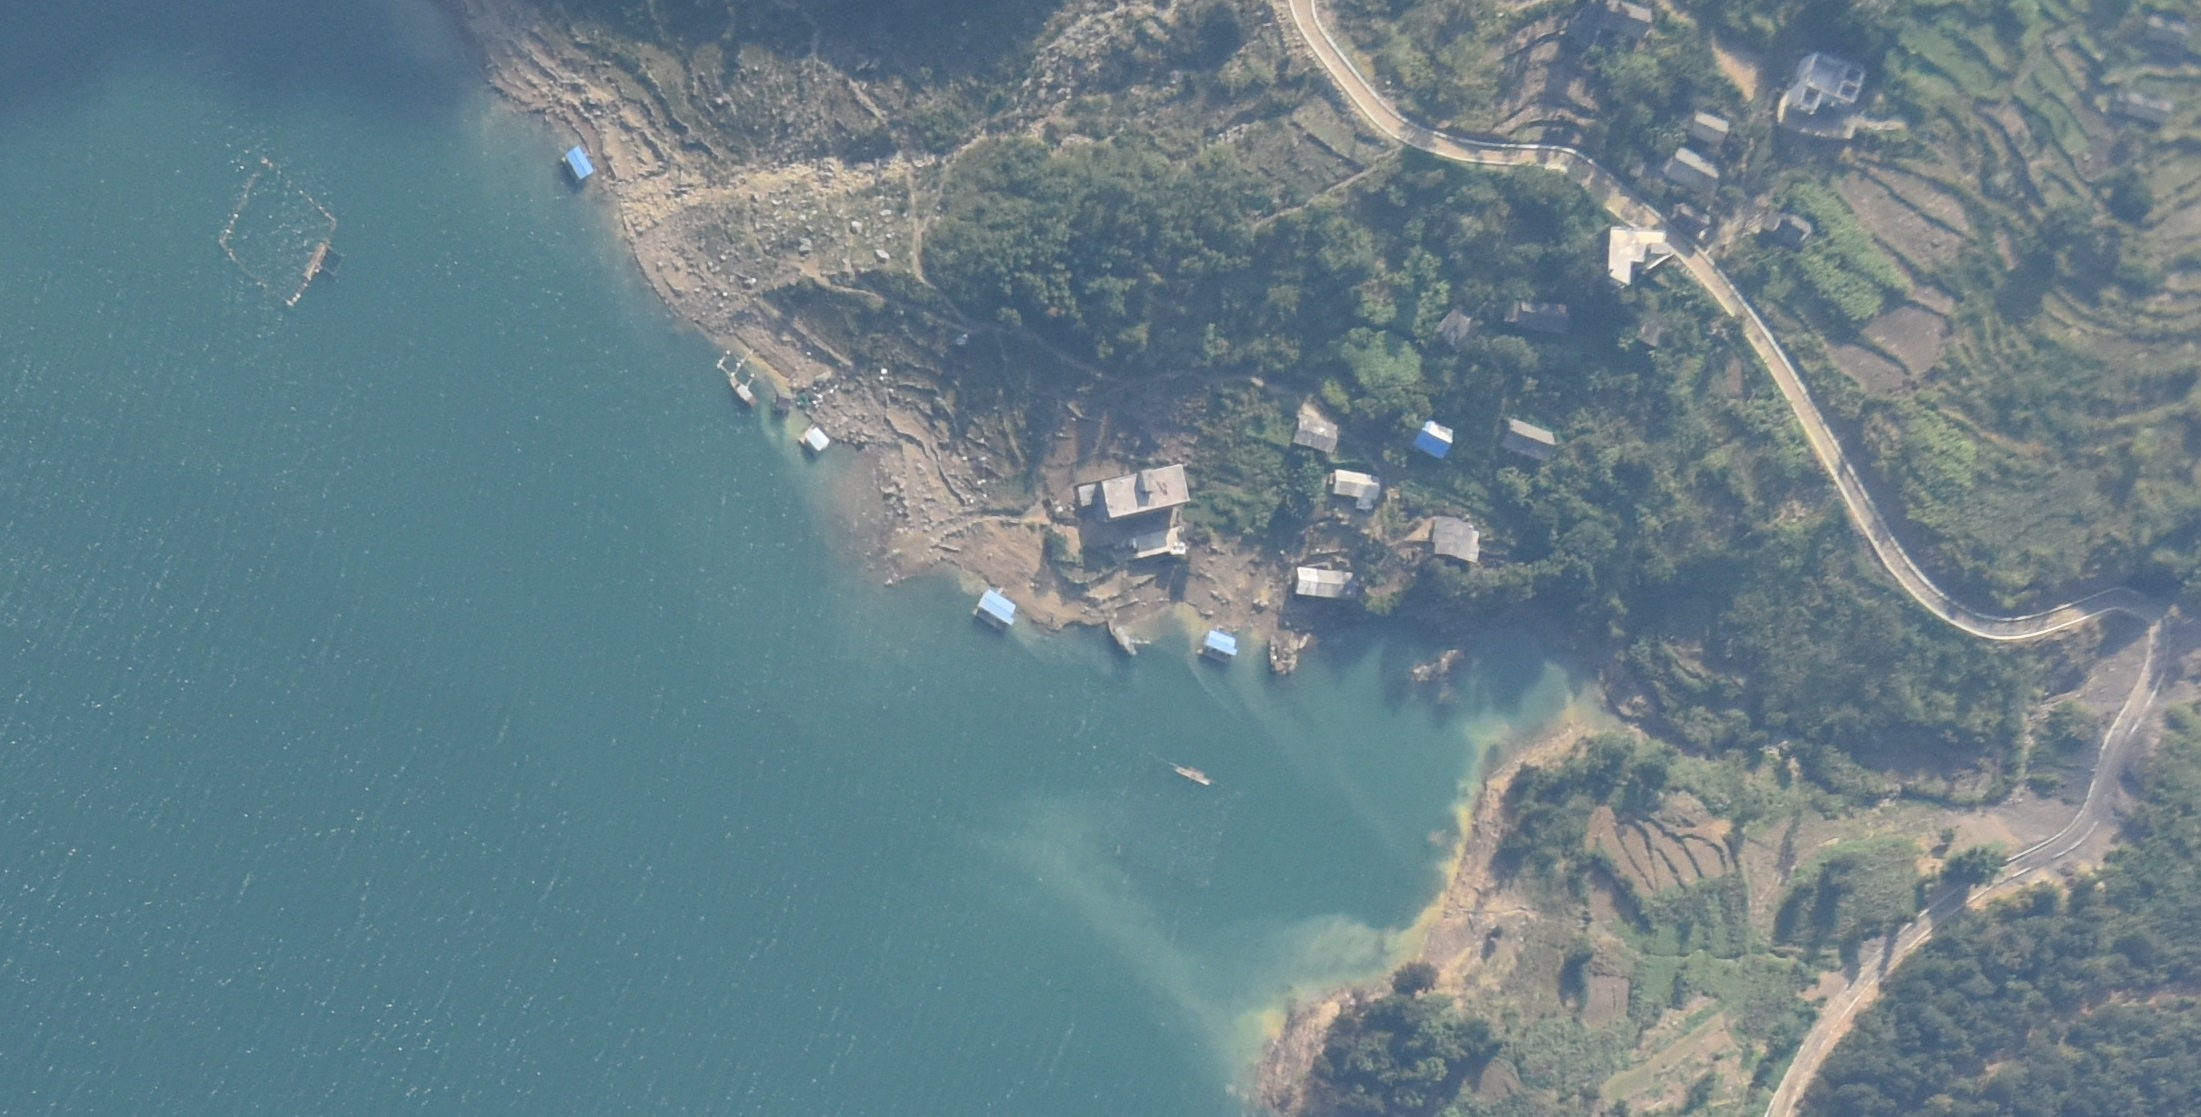building: (1076, 462, 1192, 561), (1782, 50, 1866, 135), (1608, 227, 1670, 289), (1499, 417, 1554, 460), (1429, 514, 1482, 558), (1294, 566, 1358, 601), (1670, 145, 1722, 187), (1329, 472, 1383, 511), (1506, 299, 1568, 333), (1288, 412, 1341, 450), (1603, 1, 1653, 38), (1764, 209, 1812, 244), (1435, 311, 1473, 348), (1690, 110, 1729, 144), (1670, 202, 1710, 231)
cultivation-mesh-cage: (217, 155, 340, 308)
prefabricated-house: (1410, 417, 1455, 459), (974, 588, 1017, 628), (1200, 627, 1238, 661), (563, 145, 595, 180), (802, 427, 831, 454), (774, 392, 792, 413)
ship: (1266, 634, 1301, 672), (1108, 617, 1138, 657), (727, 375, 759, 407), (1174, 764, 1211, 789)
